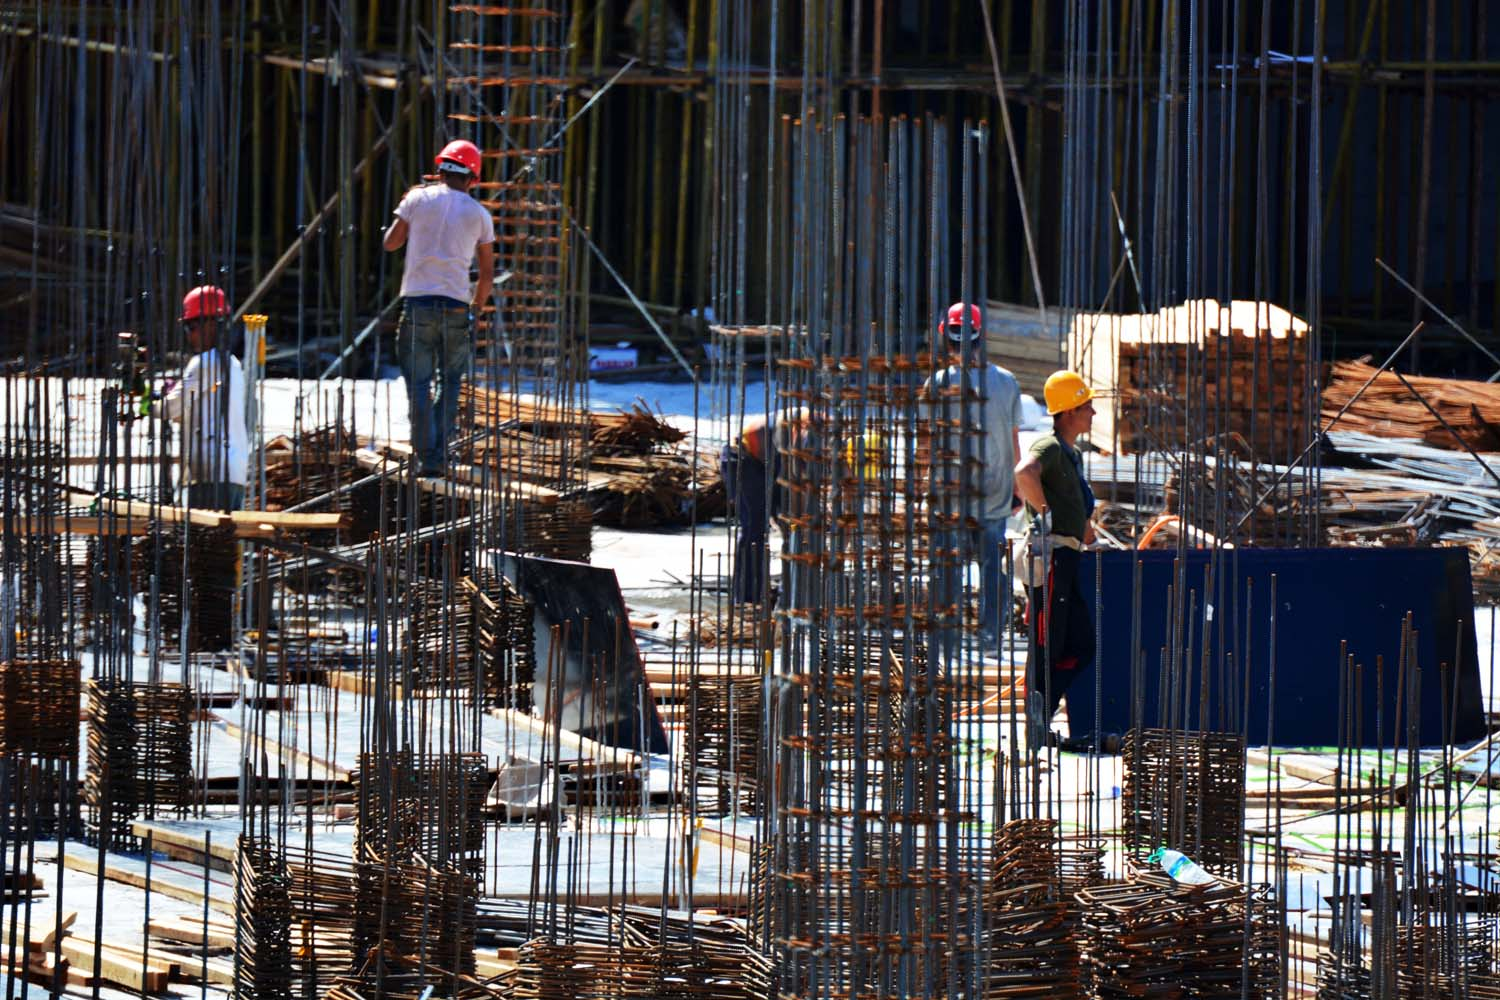safetyhat: (371, 121, 506, 485), (1021, 344, 1124, 615)
